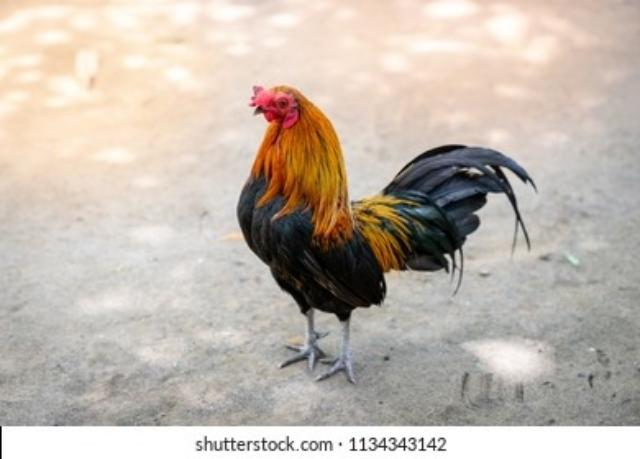Chicken: (237, 85, 537, 384)
